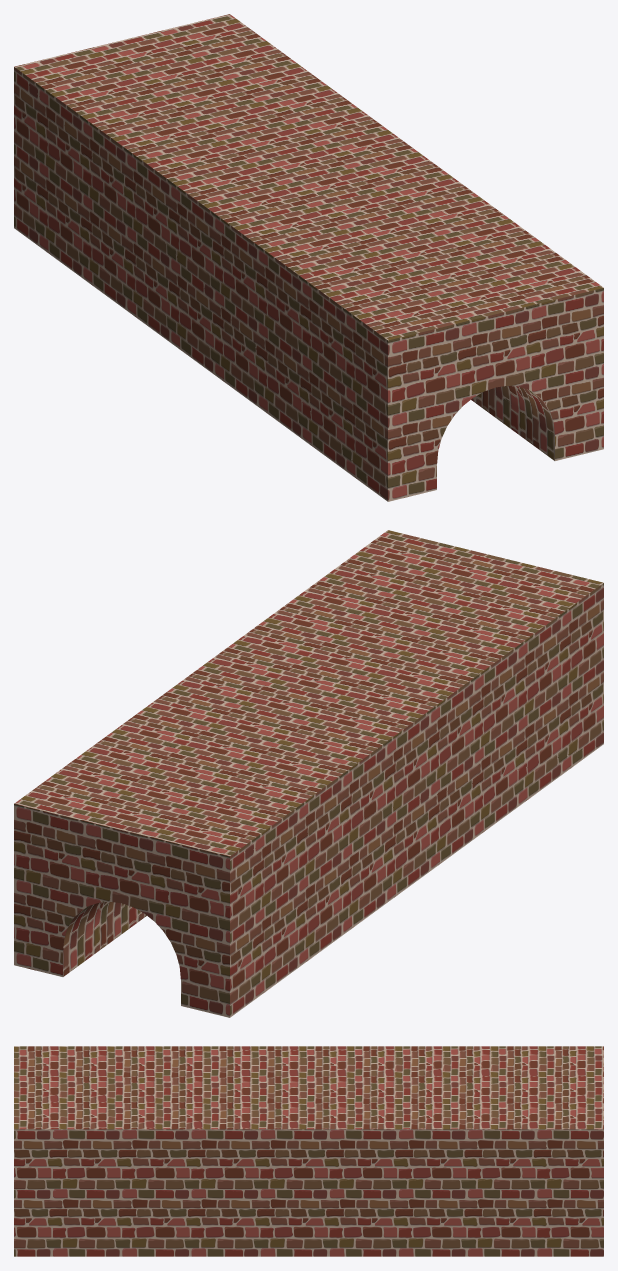
The model's file is Tunnel.fbx.
3 views of the same model, one above another, from view 1: azimuth 30°, elevation 25°; view 2: azimuth 150°, elevation 25°; view 3: azimuth 270°, elevation 25° (orthographic). The views are drawn at different scales.
Visible parts, largest first — view 1: Tunnel; view 2: Tunnel; view 3: Tunnel.
Part boxes in pixels (left/top/right/bottom): Tunnel: left=14, top=14, right=603, bottom=501; Tunnel: left=14, top=530, right=603, bottom=1017; Tunnel: left=14, top=1046, right=603, bottom=1256.
Size of the model in its own units: 468 by 334 by 1403.
